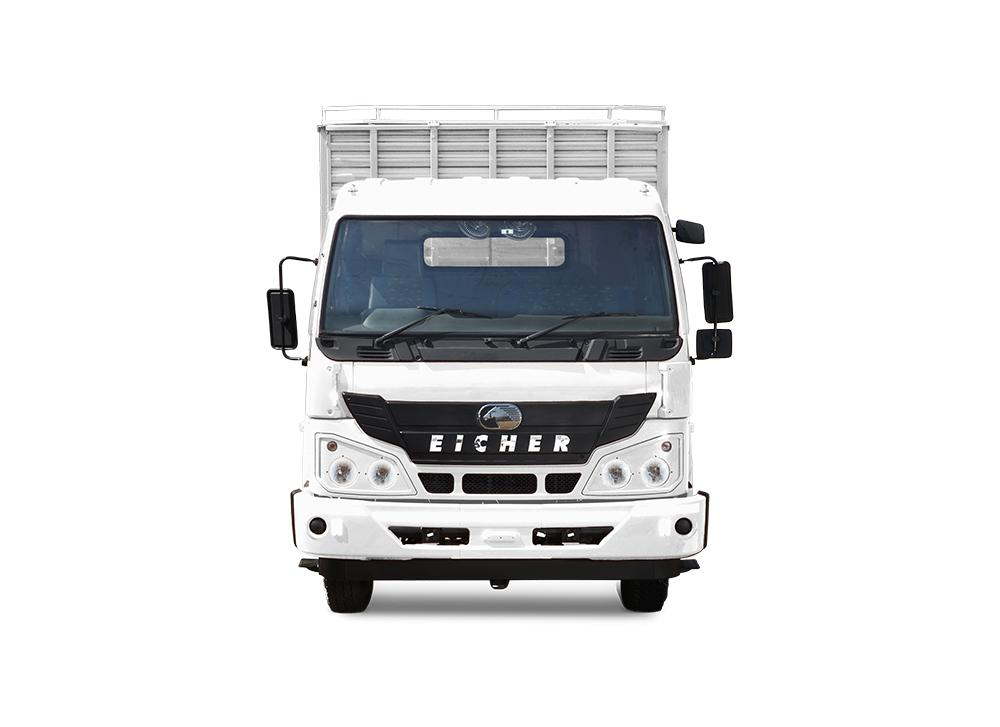truck: (266, 101, 733, 615)
